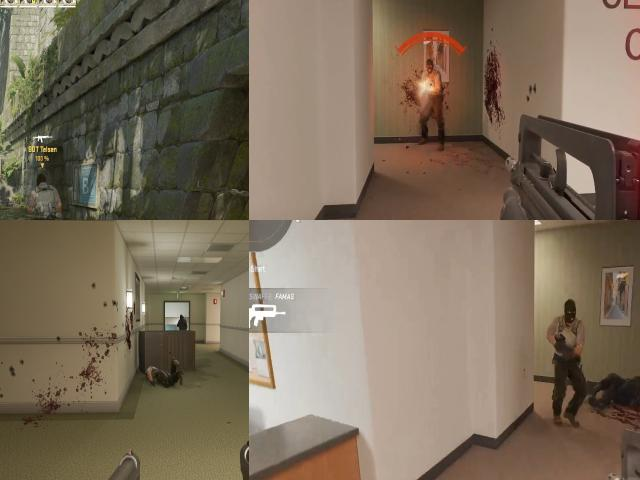CT: (179, 314, 187, 330)
CT-Head: (180, 314, 183, 320)
Dead: (601, 369, 640, 418), (144, 361, 182, 388)
T: (544, 291, 591, 380), (416, 54, 449, 122), (25, 169, 61, 220)
T-Head: (561, 296, 582, 326), (423, 56, 438, 81), (35, 172, 50, 191)
